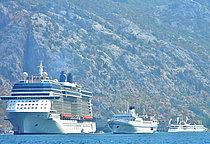Ship: (1, 59, 103, 144), (106, 104, 163, 137), (166, 116, 209, 139)
